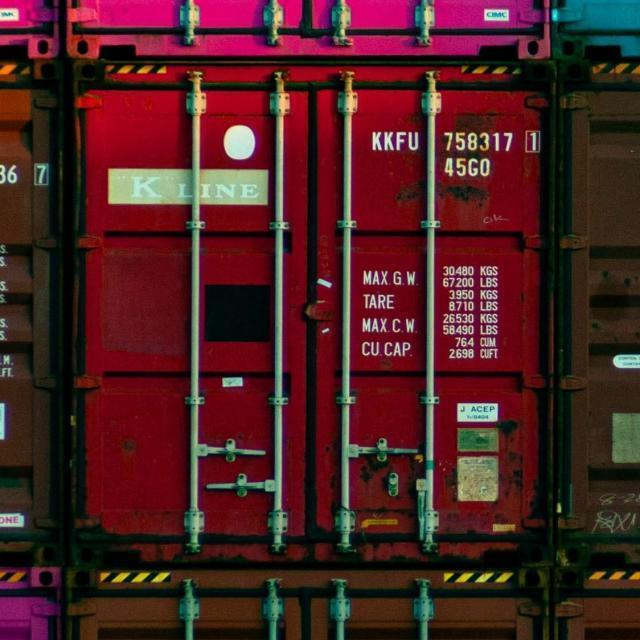ISO: (446, 158, 494, 178)
container_number: (371, 130, 540, 154)
